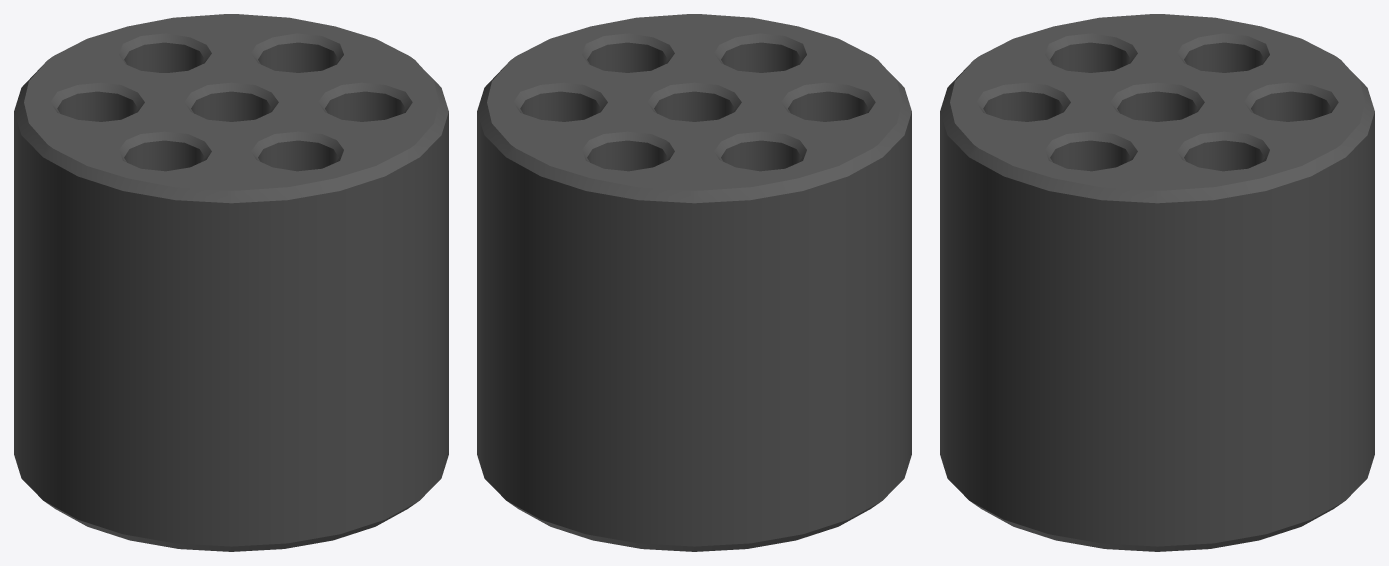
The model's file is termoShtativ.FBX.
3 renders of one model, left to right at view 1: azimuth 30°, elevation 25°; view 2: azimuth 150°, elevation 25°; view 3: azimuth 270°, elevation 25°, orthographic.
Parts seen in each view (by area): view 1: termoShtativ; view 2: termoShtativ; view 3: termoShtativ.
Part boxes in pixels (bbox=[...]): termoShtativ: bbox=[14, 14, 448, 551]; termoShtativ: bbox=[477, 14, 911, 551]; termoShtativ: bbox=[940, 14, 1374, 551].
Bounding box in the file's own units: 0.1165 × 0.1074 × 0.1165.
